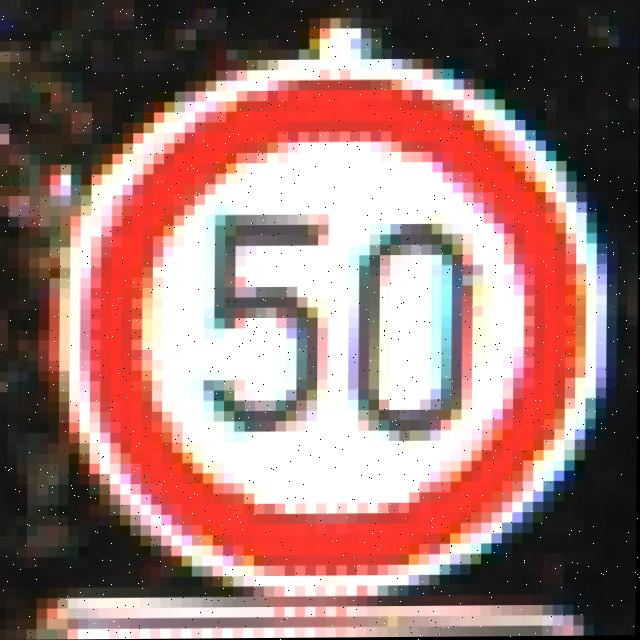speed_limit_50: (61, 55, 610, 590)
